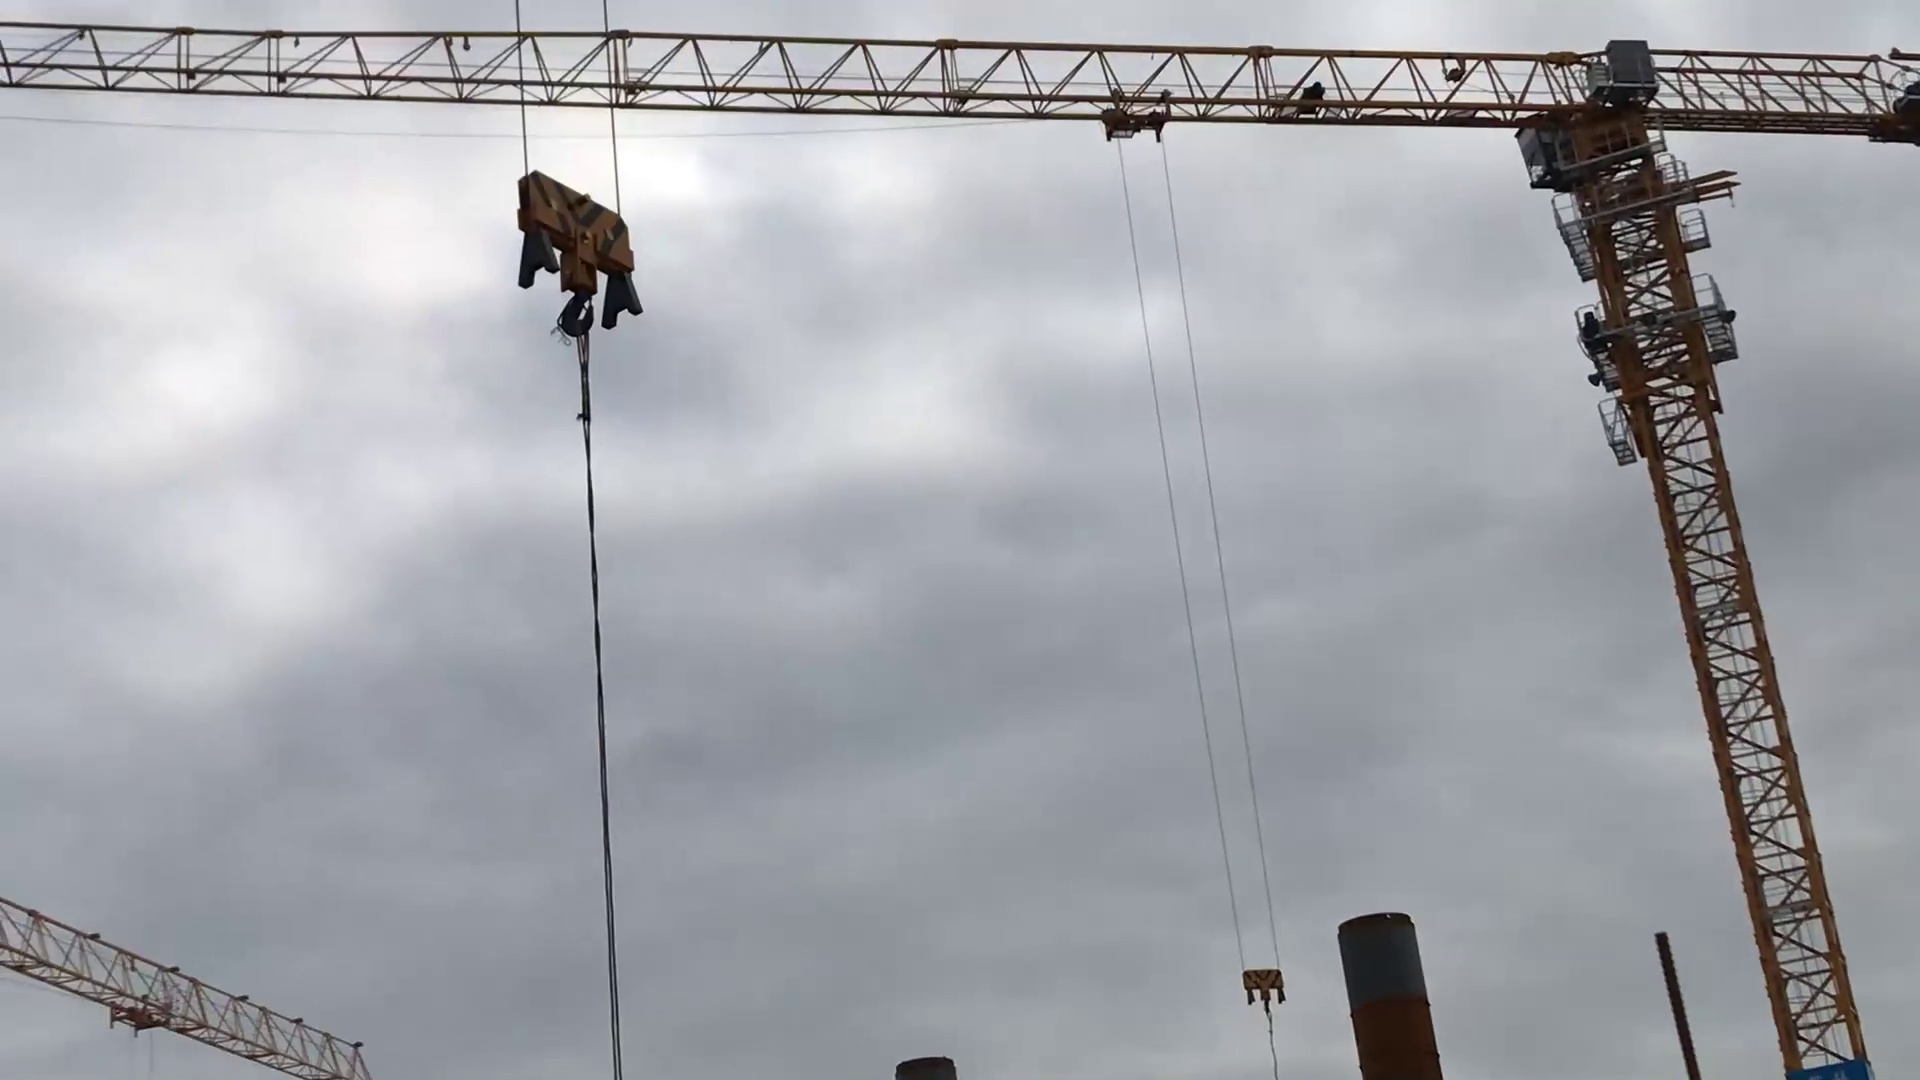hook: (508, 171, 651, 352)
